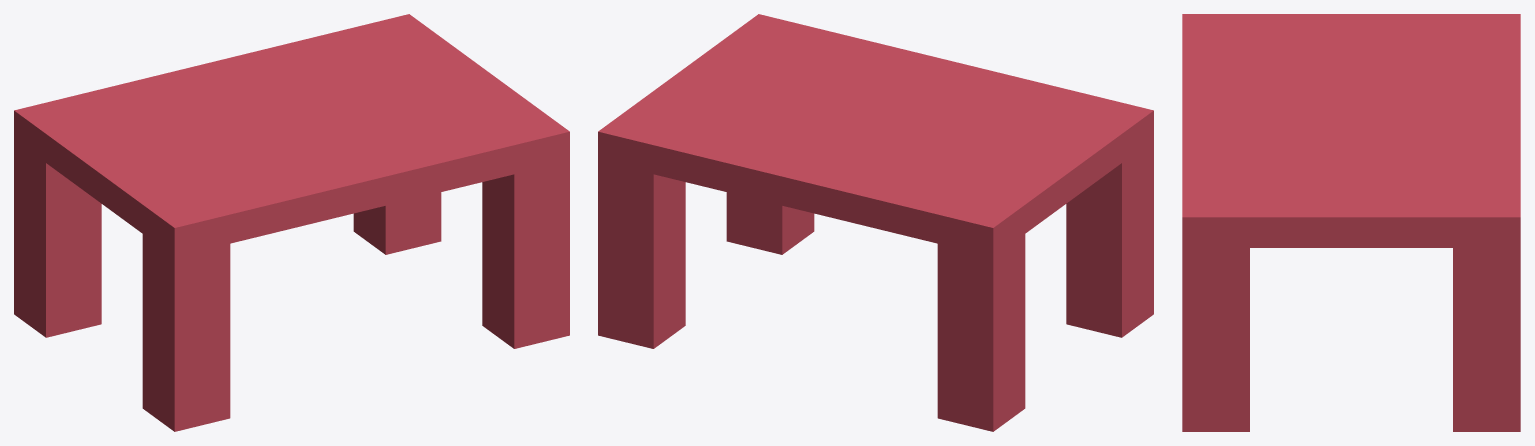
The model's file is Table.glb.
The picture shows the model from 3 angles, left to right: view 1: azimuth 30°, elevation 25°; view 2: azimuth 150°, elevation 25°; view 3: azimuth 270°, elevation 25°; orthographic projection. The views are drawn at different scales.
Parts seen in each view (by area): view 1: Mesh_Mesh_head_geo.001_lambert2SG.001; view 2: Mesh_Mesh_head_geo.001_lambert2SG.001; view 3: Mesh_Mesh_head_geo.001_lambert2SG.001.
Part boxes in pixels (x1=…): Mesh_Mesh_head_geo.001_lambert2SG.001: x1=14, y1=14, x2=569, y2=431; Mesh_Mesh_head_geo.001_lambert2SG.001: x1=598, y1=14, x2=1153, y2=431; Mesh_Mesh_head_geo.001_lambert2SG.001: x1=1182, y1=14, x2=1520, y2=431.
Bounding box in the file's own units: 71 × 35 × 50.
